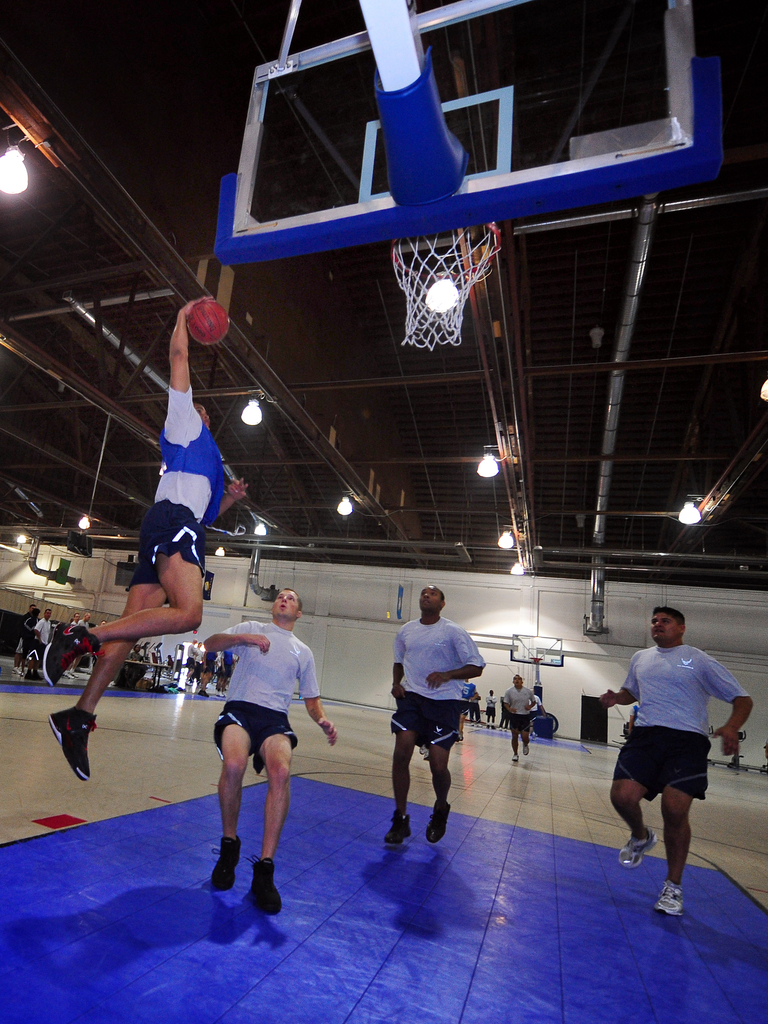Ball: (188, 300, 232, 348)
